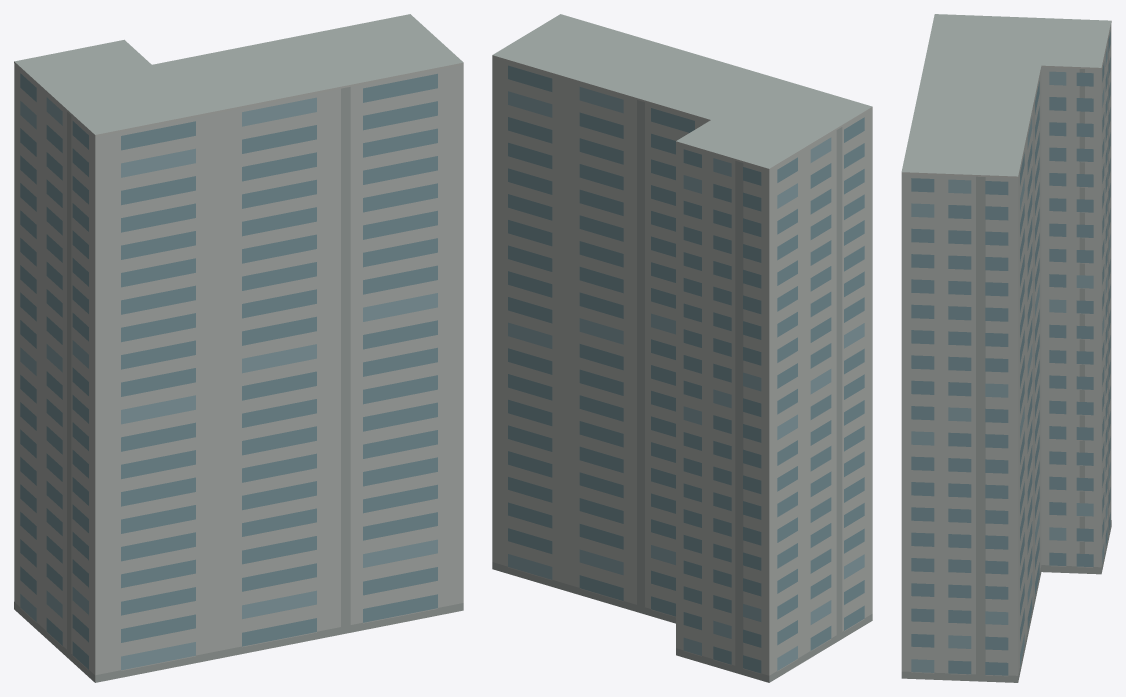
Rendered from residential-078d89a6-8a44-4e45-92c2-44bc85134d40.glb.
3 renders of one model, left to right at view 1: azimuth 30°, elevation 25°; view 2: azimuth 150°, elevation 25°; view 3: azimuth 270°, elevation 25°, orthographic. The views are drawn at different scales.
Parts seen in each view (by area): view 1: residential-078d89a6-8a44-4e45-92c2-44bc85134d40.tmp; view 2: residential-078d89a6-8a44-4e45-92c2-44bc85134d40.tmp; view 3: residential-078d89a6-8a44-4e45-92c2-44bc85134d40.tmp.
Boxes of the visible parts, left/top/right/bottom form: residential-078d89a6-8a44-4e45-92c2-44bc85134d40.tmp: left=14, top=14, right=463, bottom=682; residential-078d89a6-8a44-4e45-92c2-44bc85134d40.tmp: left=492, top=14, right=872, bottom=682; residential-078d89a6-8a44-4e45-92c2-44bc85134d40.tmp: left=901, top=14, right=1111, bottom=682.
Bounding box in the file's own units: 47.5 × 69 × 25.94.
